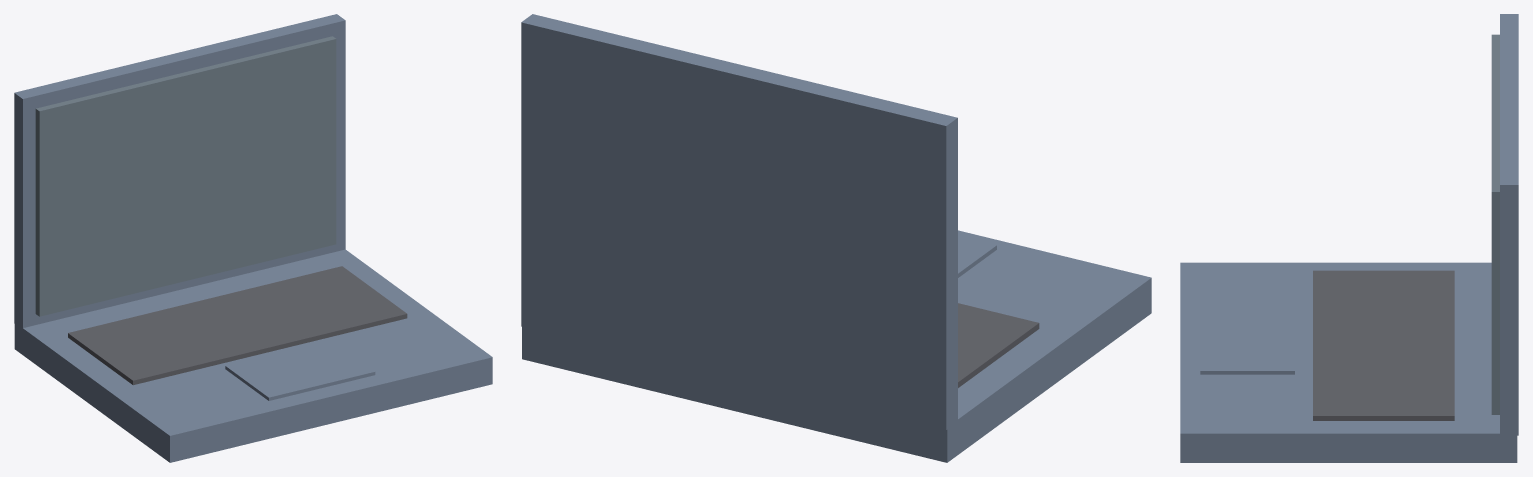
Rendered from macbook-air-m2.glb.
3 views of the same model, side by side, from view 1: azimuth 30°, elevation 25°; view 2: azimuth 150°, elevation 25°; view 3: azimuth 270°, elevation 25° (orthographic). The views are drawn at different scales.
Visible parts, largest first — view 1: display_panel, base, keyboard, display_body, trackpad; view 2: display_body, base, keyboard, trackpad; view 3: base, keyboard, display_body, trackpad, display_panel.
Boxes of the visible parts, bbox=[...] form: display_panel: bbox=[35, 36, 336, 316]; base: bbox=[14, 249, 492, 462]; keyboard: bbox=[68, 266, 407, 385]; display_body: bbox=[14, 14, 345, 328]; trackpad: bbox=[225, 340, 375, 400]; display_body: bbox=[521, 14, 957, 429]; base: bbox=[522, 230, 1151, 462]; keyboard: bbox=[958, 303, 1039, 387]; trackpad: bbox=[958, 235, 996, 277]; base: bbox=[1180, 262, 1517, 462]; keyboard: bbox=[1313, 270, 1454, 420]; display_body: bbox=[1500, 14, 1518, 435]; trackpad: bbox=[1200, 314, 1294, 374]; display_panel: bbox=[1491, 34, 1499, 414].
Bounding box in the file's own units: 0.3 × 0.2275 × 0.251.
